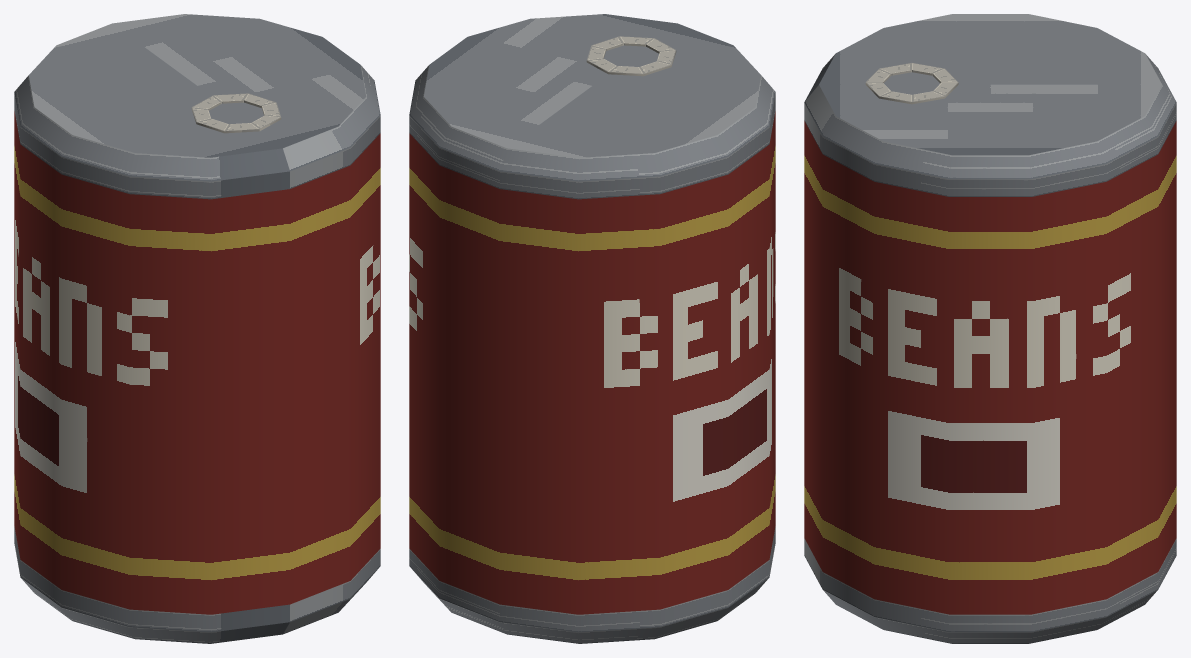
File: INV_CannedFood.glb
3 renders of one model, left to right at view 1: azimuth 30°, elevation 25°; view 2: azimuth 150°, elevation 25°; view 3: azimuth 270°, elevation 25°, orthographic.
Parts seen in each view (by area): view 1: INV_CannedFood_Mesh; view 2: INV_CannedFood_Mesh; view 3: INV_CannedFood_Mesh.
Part boxes in pixels (x1,y1,x2,y2): INV_CannedFood_Mesh: (14, 14, 380, 643); INV_CannedFood_Mesh: (409, 14, 775, 643); INV_CannedFood_Mesh: (804, 14, 1176, 643).
Size of what is drawn, in the model's own units: 0.0741 by 0.1105 by 0.076.
Materials: 1 (1 with a texture image).
